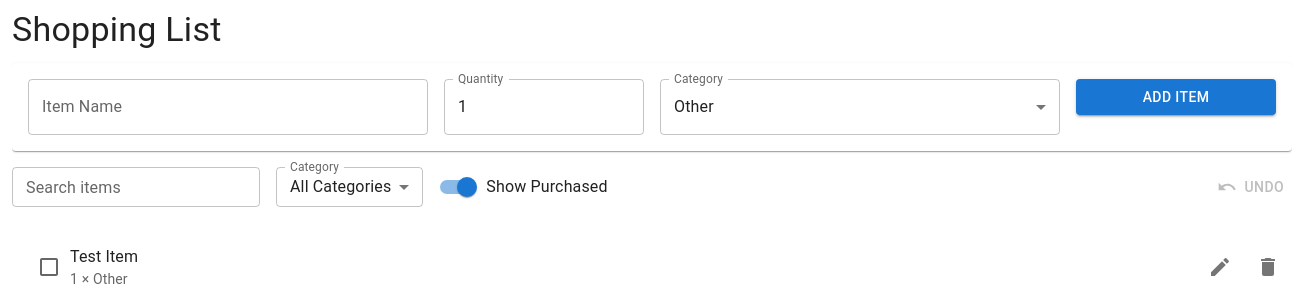
Test: ShoppingList › filters items by search term
expect the text "Test Item" is shown: met, box top-left (70, 247), bottom-right (138, 266)
Type "nonexistent" into the field labelled "Search items". click: coordinates (136, 187)
box: top-left (12, 167), bottom-right (260, 207)
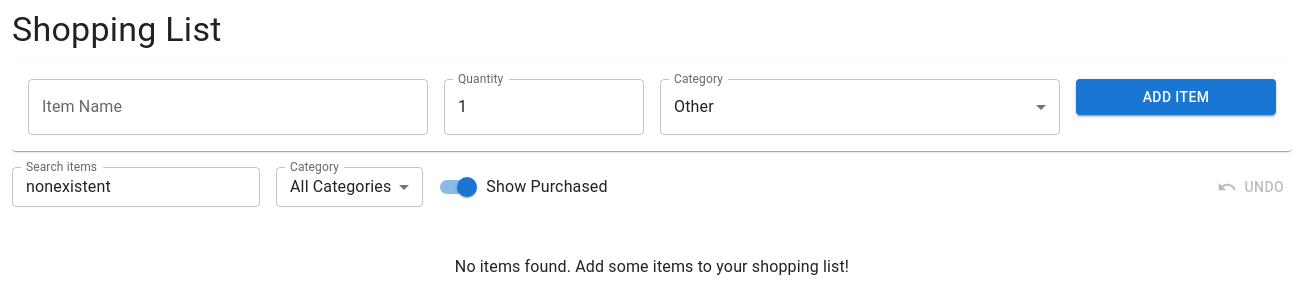
expect the text "Test Item" is gone: met
